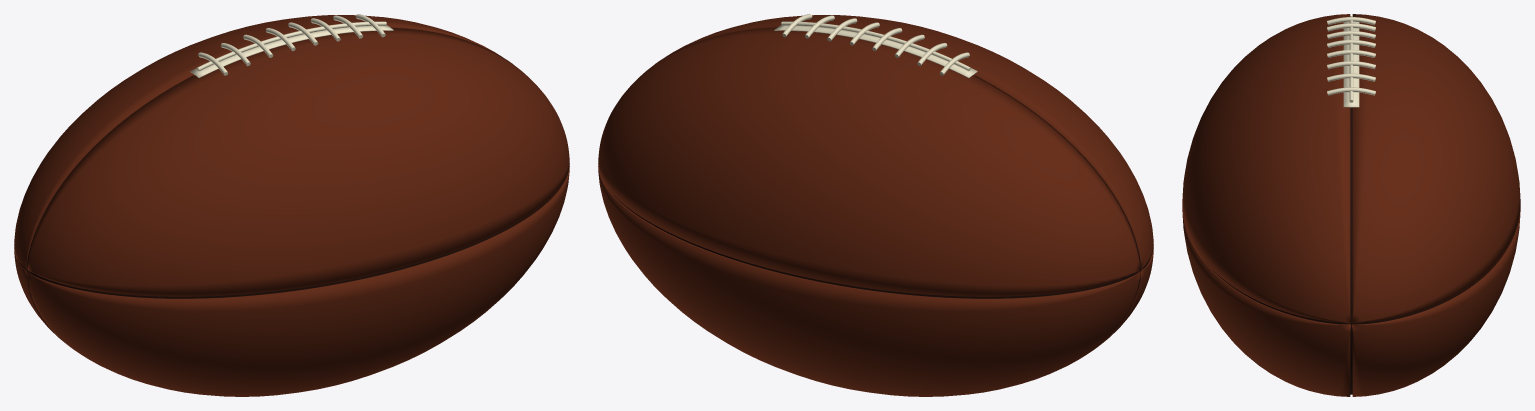
The picture shows the model from 3 angles, left to right: view 1: azimuth 30°, elevation 25°; view 2: azimuth 150°, elevation 25°; view 3: azimuth 270°, elevation 25°; orthographic projection. The views are drawn at different scales.
Visible parts, largest first — view 1: MESH_AmericanFootball; view 2: MESH_AmericanFootball; view 3: MESH_AmericanFootball.
Boxes of the visible parts, left/top/right/bottom form: MESH_AmericanFootball: left=14, top=14, right=569, bottom=396; MESH_AmericanFootball: left=598, top=14, right=1153, bottom=396; MESH_AmericanFootball: left=1182, top=14, right=1520, bottom=396.
Bounding box in the file's own units: 0.2826 × 0.1746 × 0.1708.
